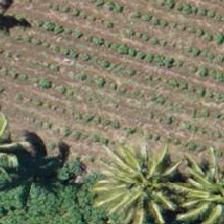coconut_tree: (84, 147, 174, 223), (168, 151, 223, 223)
